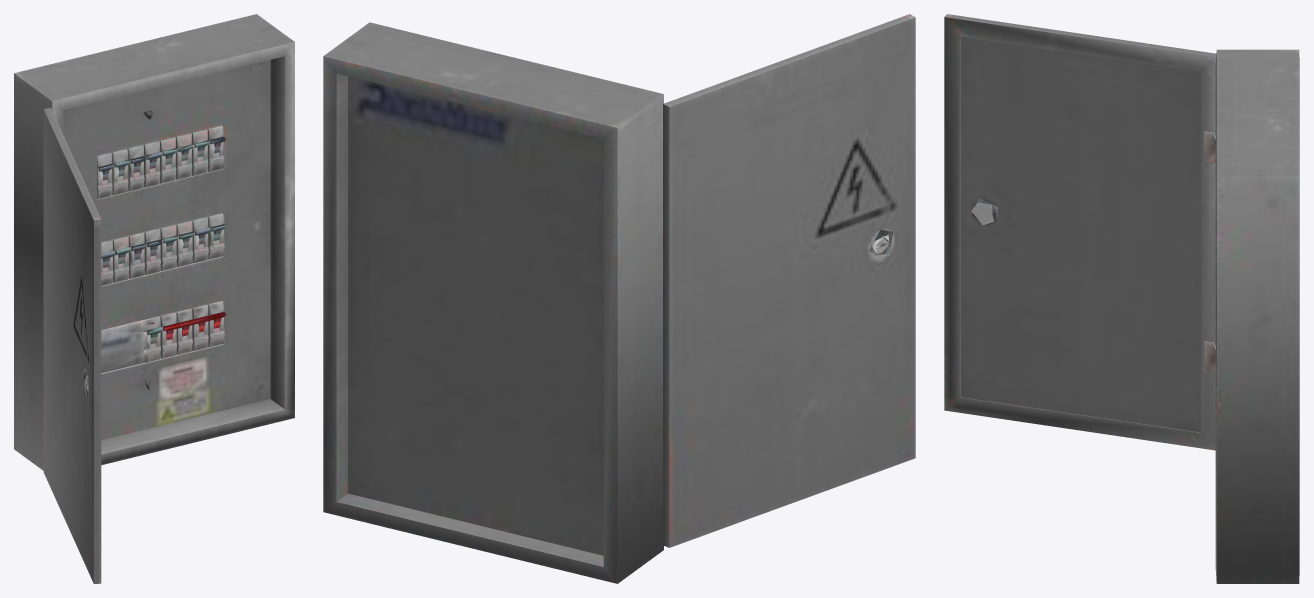
File: power_box_01.glb
The picture shows the model from 3 angles, left to right: view 1: azimuth 30°, elevation 25°; view 2: azimuth 150°, elevation 25°; view 3: azimuth 270°, elevation 25°; orthographic projection. The views are drawn at different scales.
Visible parts, largest first — view 1: power_box_01_box, power_box_01_door; view 2: power_box_01_box, power_box_01_door; view 3: power_box_01_door, power_box_01_box.
Boxes of the visible parts, x1=… form: power_box_01_box: x1=14, y1=14, x2=294, y2=470; power_box_01_door: x1=43, y1=108, x2=101, y2=583; power_box_01_box: x1=323, y1=22, x2=663, y2=583; power_box_01_door: x1=663, y1=14, x2=915, y2=547; power_box_01_door: x1=944, y1=14, x2=1216, y2=450; power_box_01_box: x1=1215, y1=49, x2=1299, y2=583.
Size of the model in its own units: 0.456 by 0.5031 by 0.399.
1 material, 1 textured.
